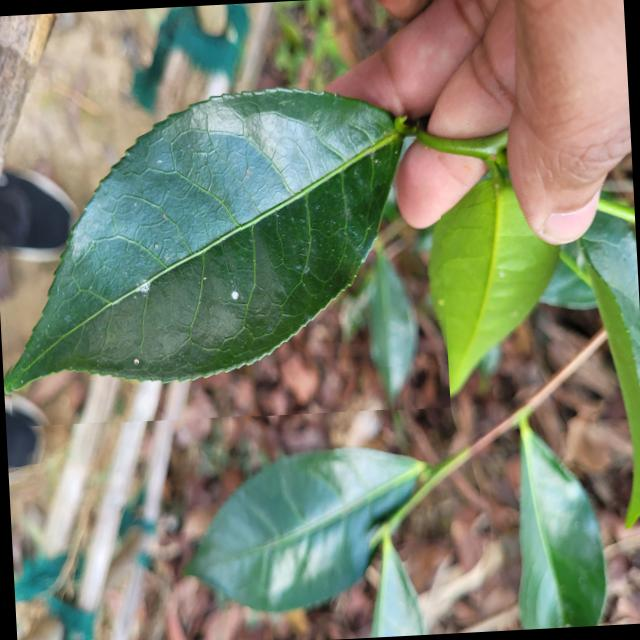Category D(7+ days, Not for Tea): (0, 72, 450, 431)
